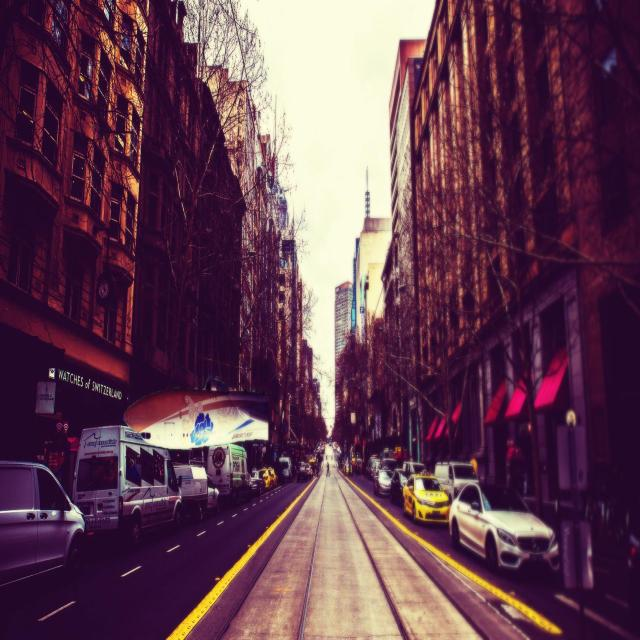airplane: (123, 387, 270, 446)
